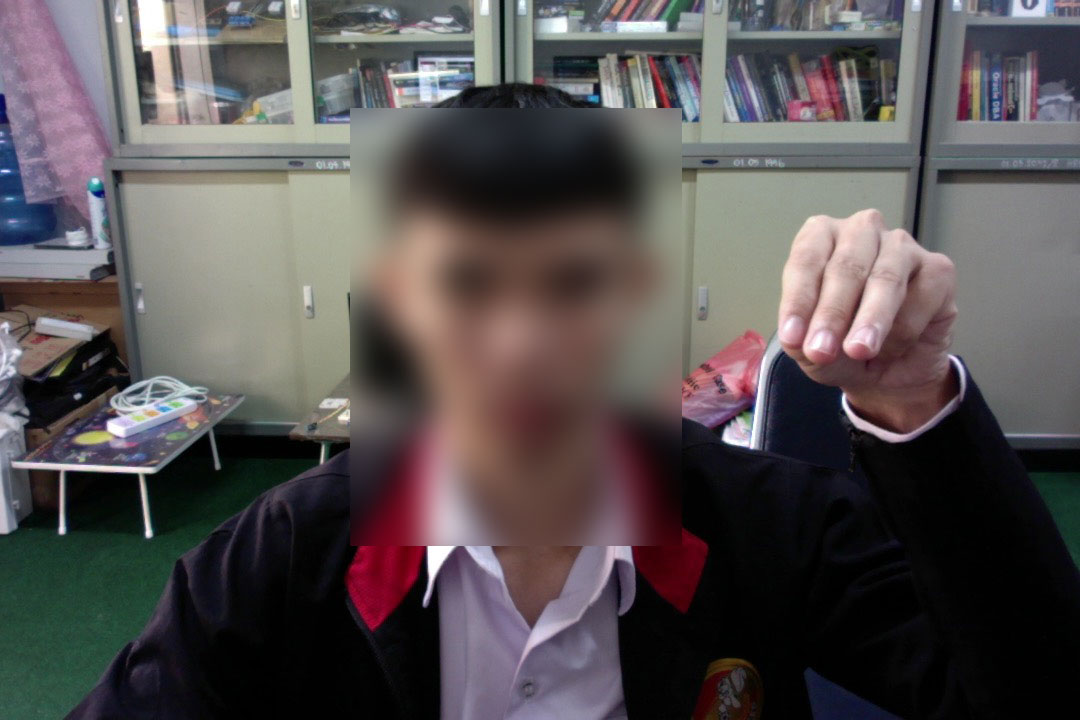mor: (773, 195, 962, 403)
